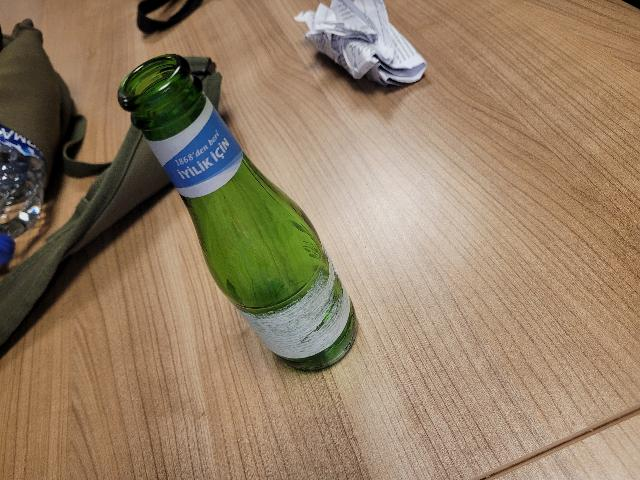Cam: (102, 51, 361, 378)
Kagit: (292, 0, 430, 92)
